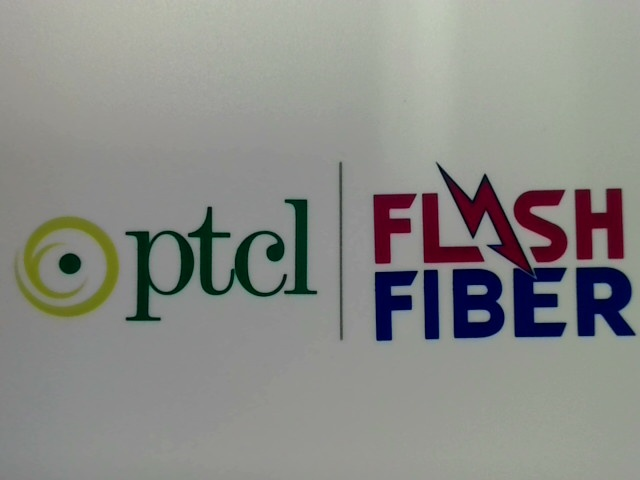BF_PTCL: (5, 187, 321, 320)
